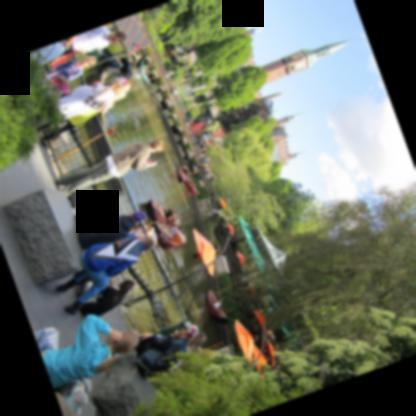handbag: (83, 91, 110, 109)
